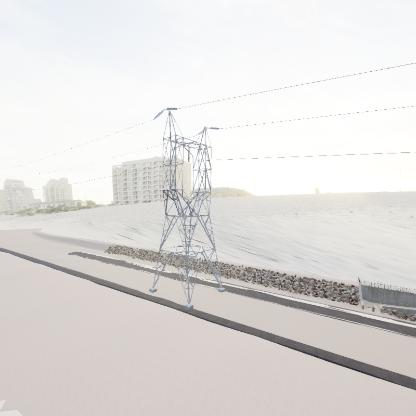tower: (149, 107, 227, 314)
